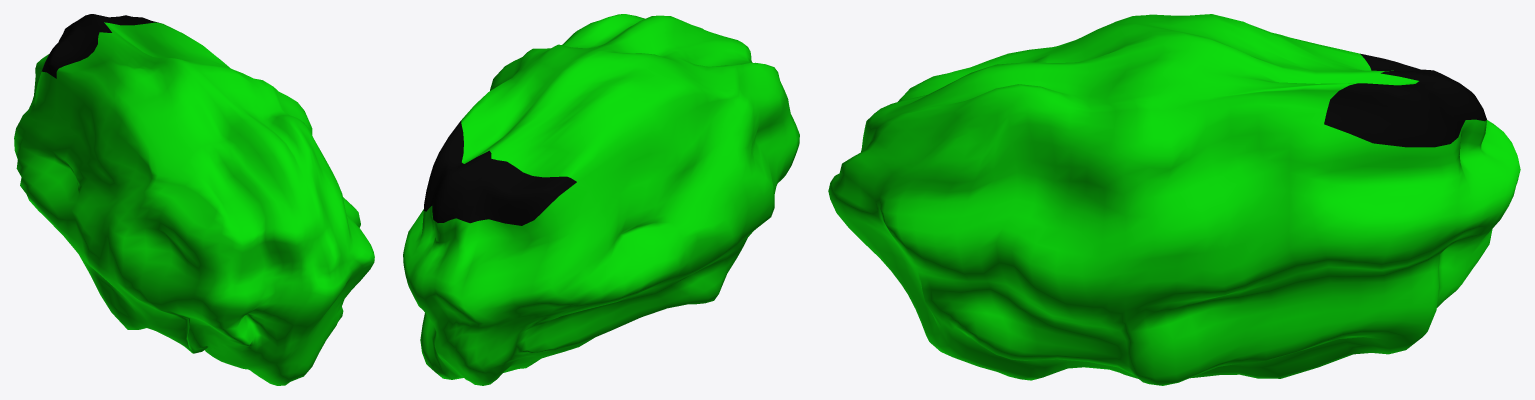
The model's file is CloudHairFinal.fbx.
3 views of the same model, side by side, from view 1: azimuth 30°, elevation 25°; view 2: azimuth 150°, elevation 25°; view 3: azimuth 270°, elevation 25° (orthographic). The views are drawn at different scales.
Visible parts, largest first — view 1: CloudHair; view 2: CloudHair; view 3: CloudHair.
Boxes of the visible parts, left/top/right/bottom form: CloudHair: left=14, top=14, right=374, bottom=385; CloudHair: left=403, top=14, right=799, bottom=385; CloudHair: left=828, top=14, right=1520, bottom=385.
Size of the model in its own units: 0.5703 by 0.6003 by 1.16.
